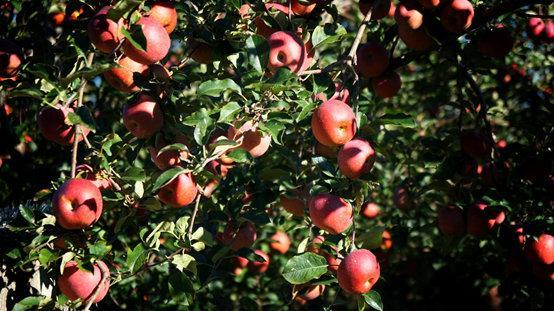apple: (54, 253, 110, 306), (54, 178, 104, 229), (311, 98, 358, 147), (125, 17, 170, 63), (337, 248, 380, 295), (264, 29, 311, 72), (310, 192, 354, 234), (156, 168, 198, 208), (336, 139, 375, 177)
